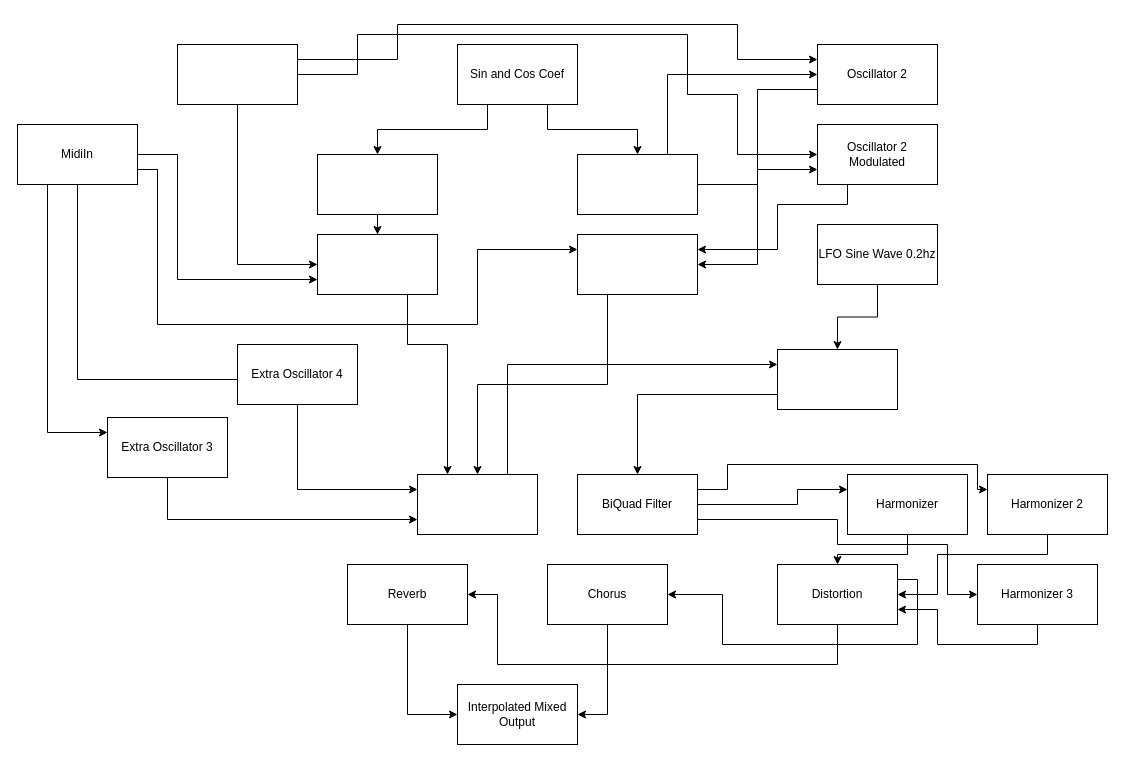
The diagram is 1125 pixels wide and 762 high, and some of its shapes have lost their labels. The shapes that lost their labels are listed below. From the top down, each one's centre as x and y in pixels, then its label:
(x=237, y=74): MidiADSR Envelope
(x=377, y=184): SinTable
(x=637, y=184): CosTable(SintTable with phase .25)
(x=377, y=264): Oscillator 1
(x=637, y=264): Oscillator 2 and Oscillator 2 Mix Control
(x=837, y=379): Frequncy Notch Gain Modulation
(x=477, y=504): Mix
